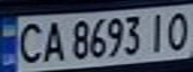3: (121, 12, 148, 56)
6: (87, 16, 109, 60)
8: (66, 17, 90, 61)
9: (103, 15, 127, 58)
A: (39, 18, 69, 64)
C: (12, 19, 48, 65)
I: (145, 10, 172, 53)
O: (160, 8, 193, 52)
